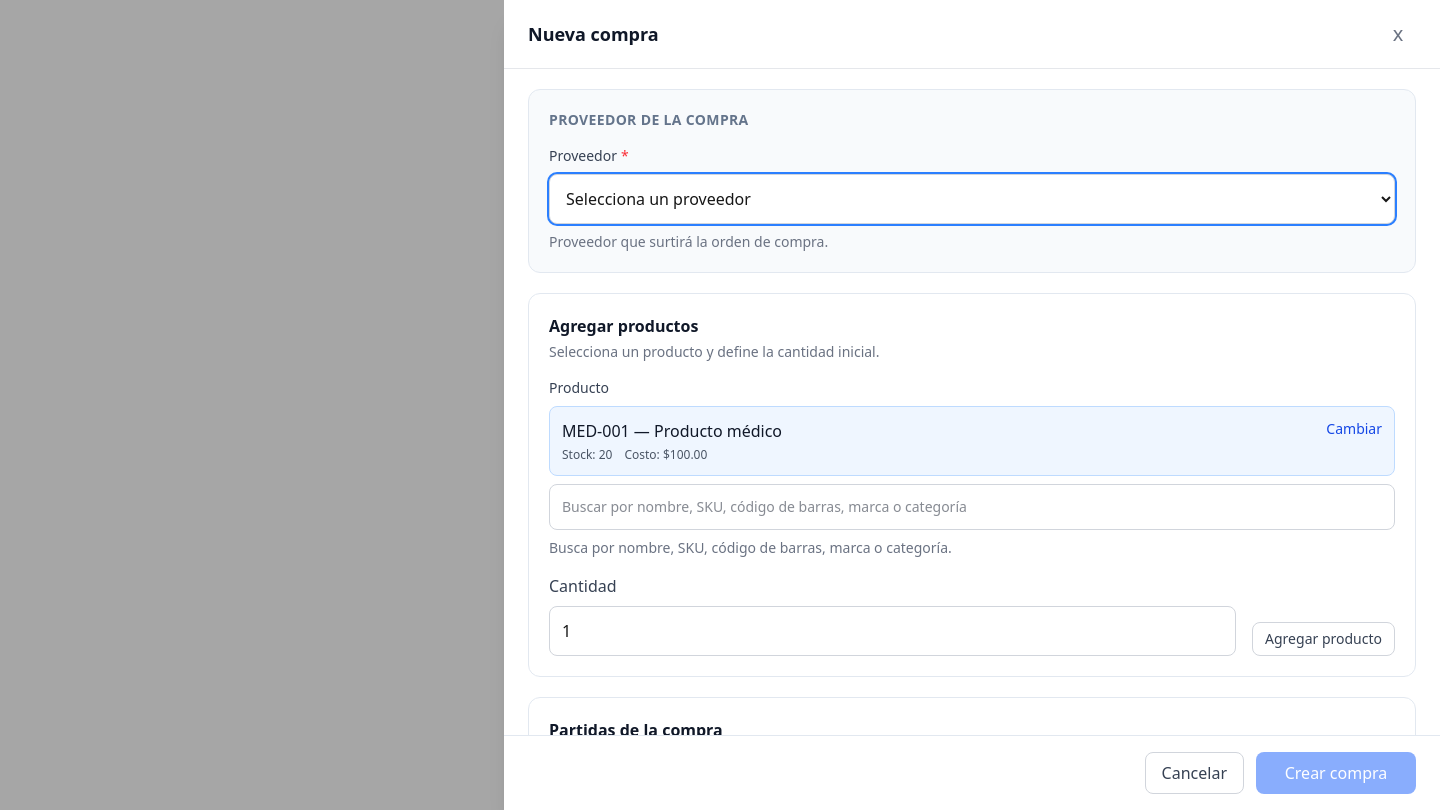
Scenario: PurchaseFormModal › confirma descarte con producto elegido y permite volver a la captura
Click the button "Cancelar": [1194, 773] box [1145,752,1244,794]
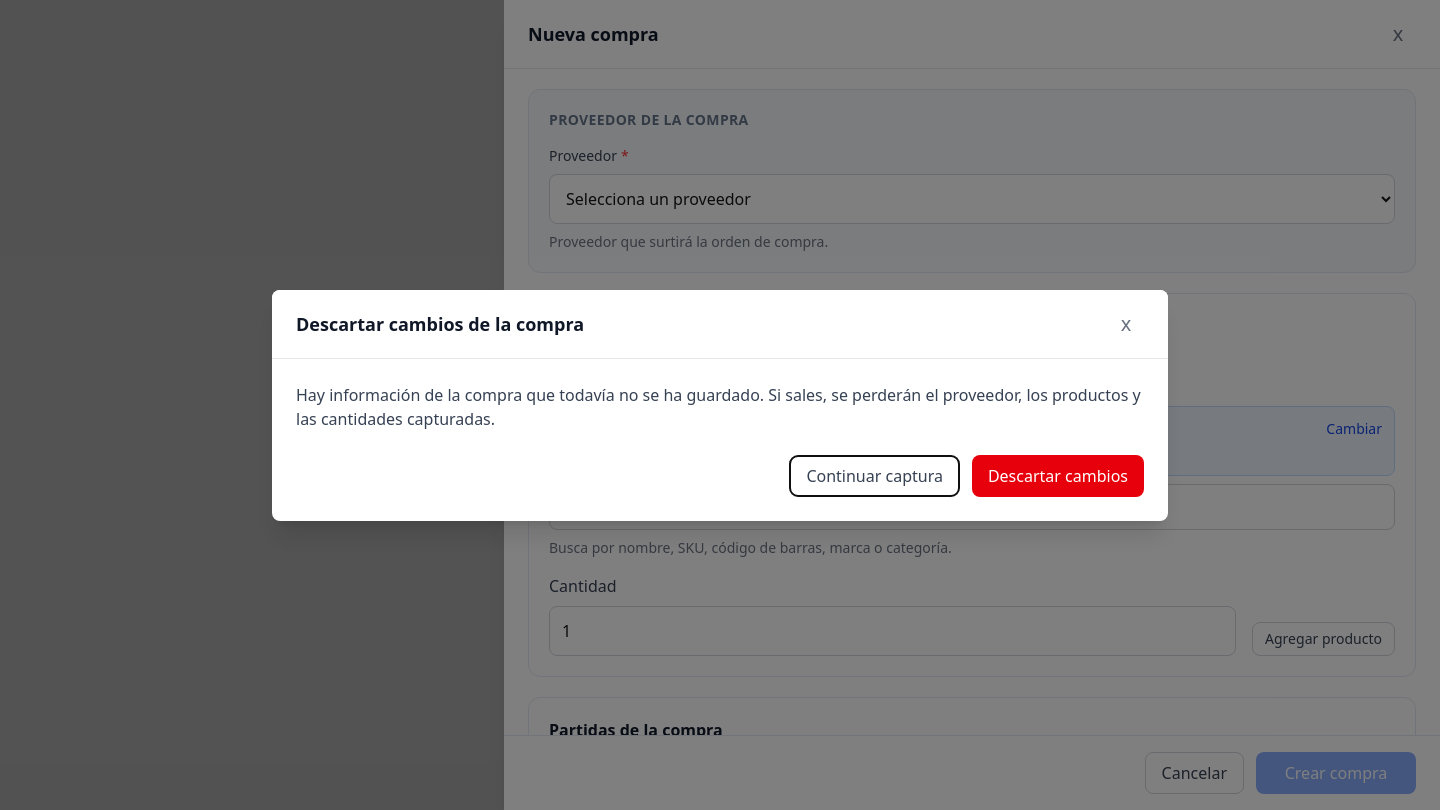
Now the text "no se ha guardado" is shown, box [296,384,1141,430]
Click the button "Continuar captura": [875, 476] box [789,454,960,496]
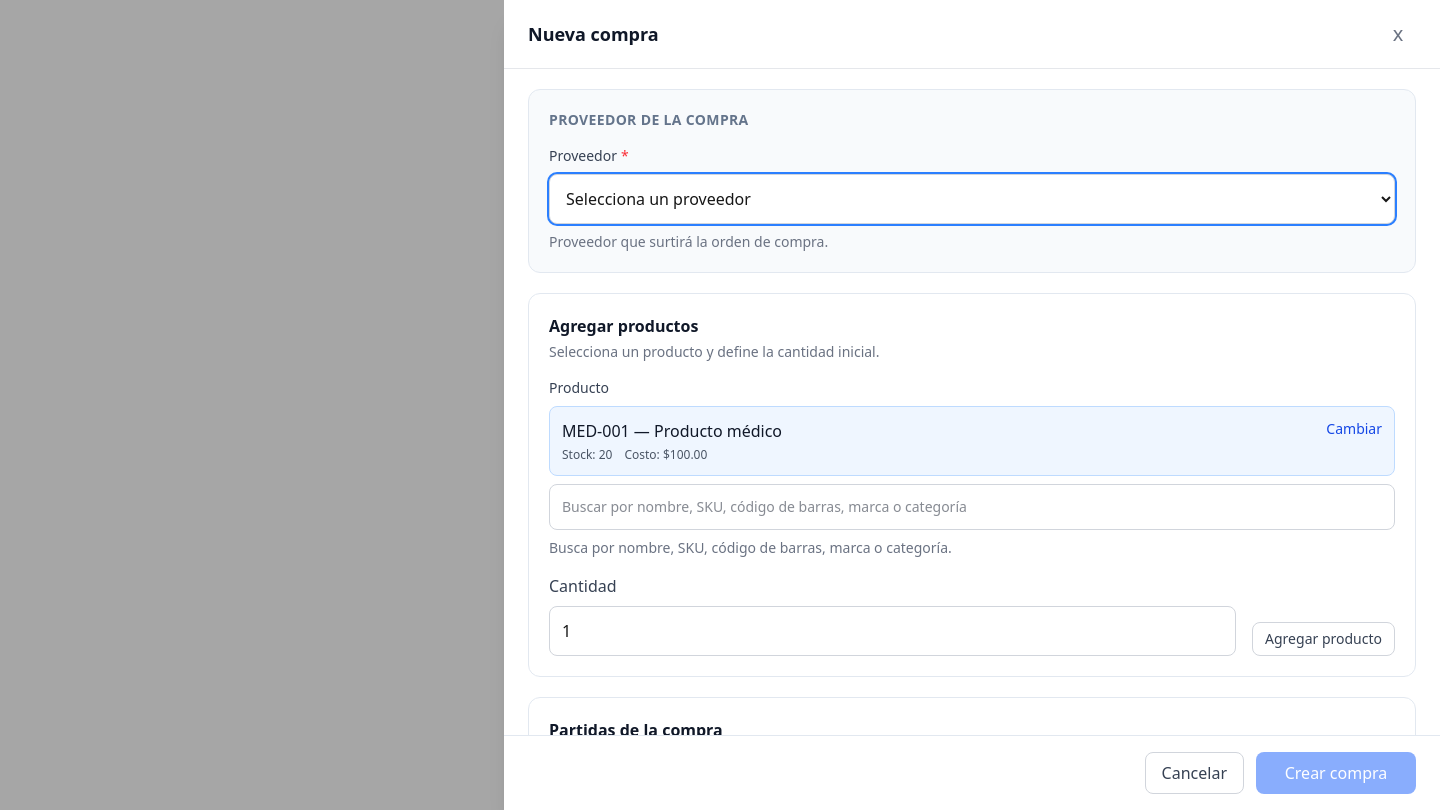
Now the heading "Descartar cambios de la compra" is gone
# The X and the footer Cancel action share the same guarded close handler.
Click the button named "Cerrar modal": [1398, 34] box [1380,16,1416,52]
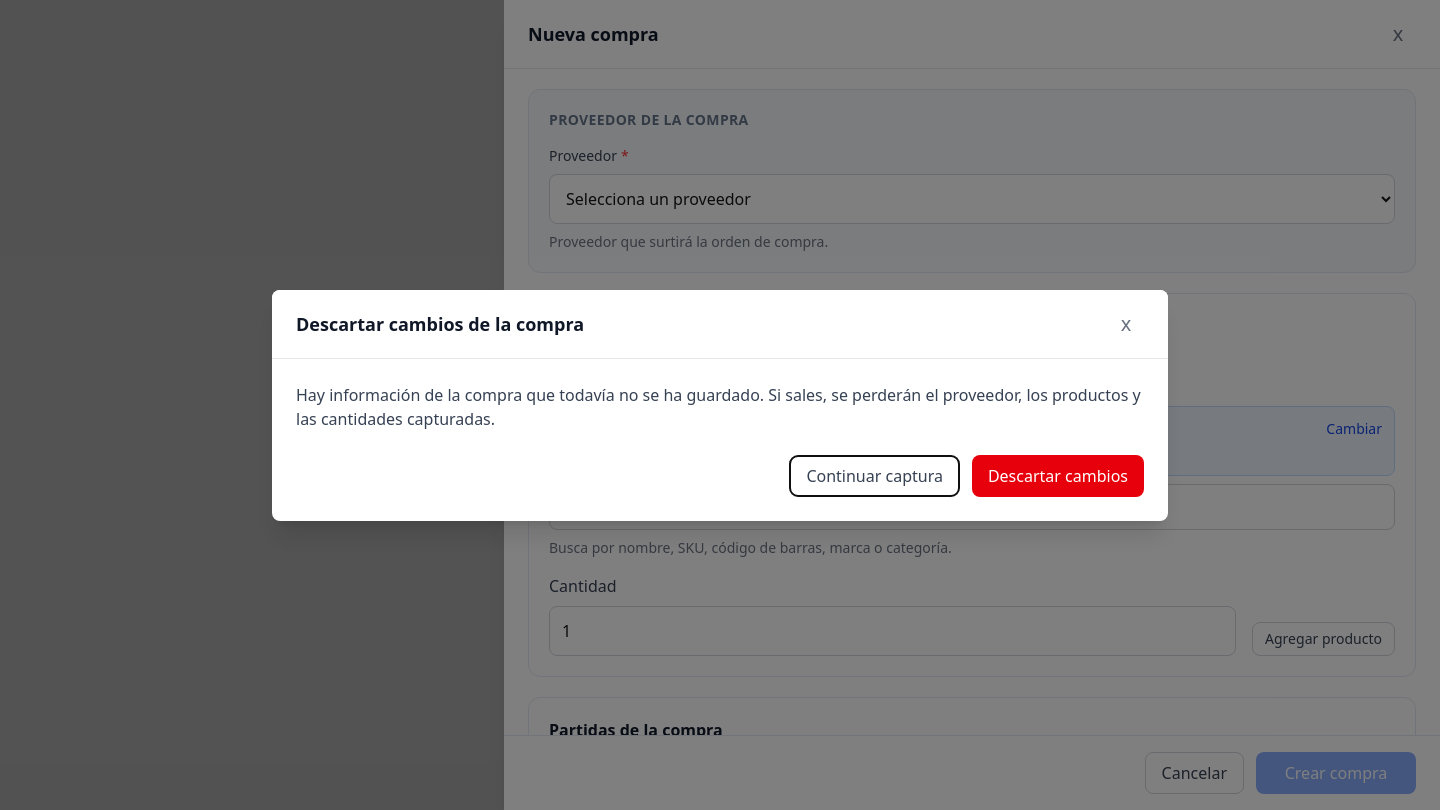
Click the button "Descartar cambios": [1058, 476] box [972,454,1144,496]
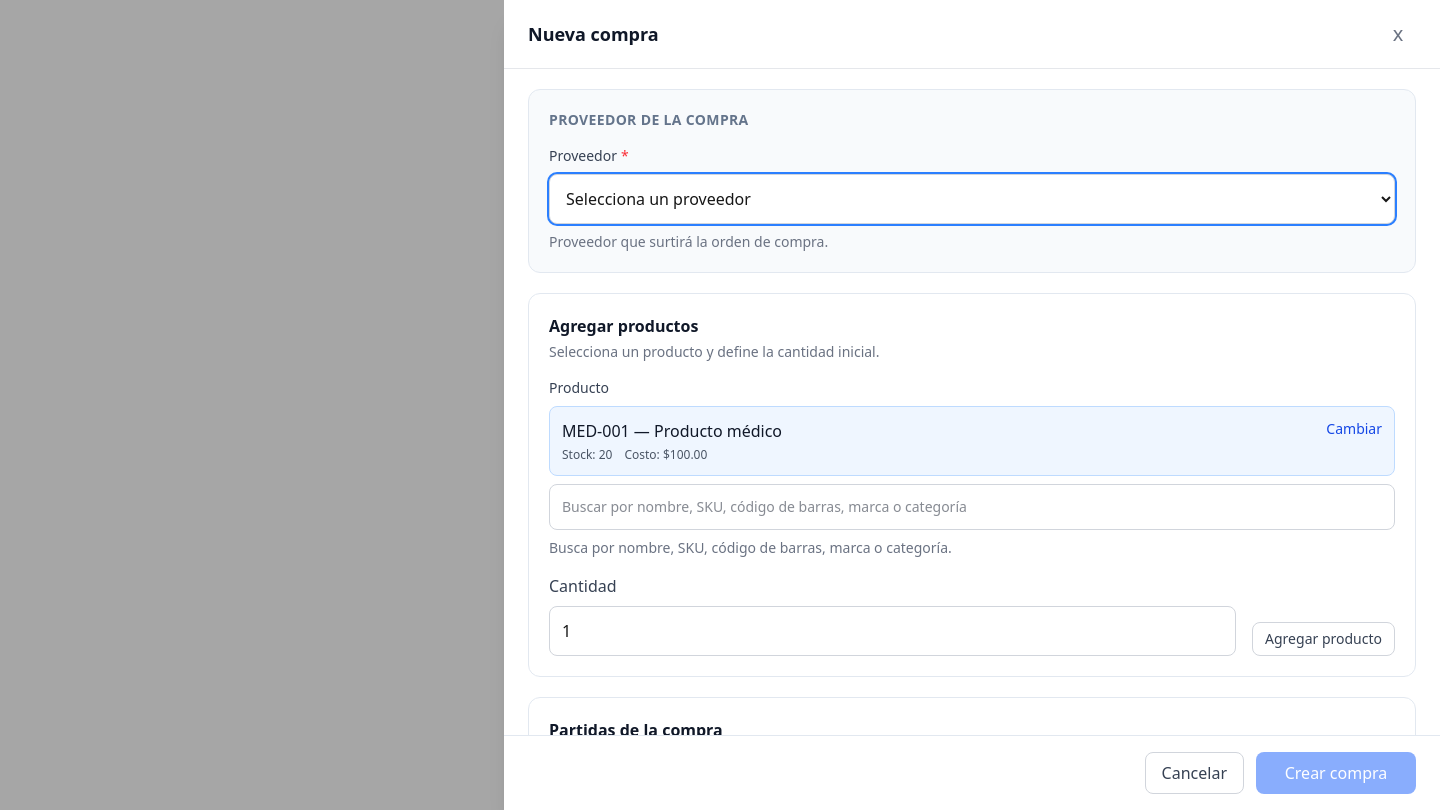
Now the heading "Descartar cambios de la compra" is gone
